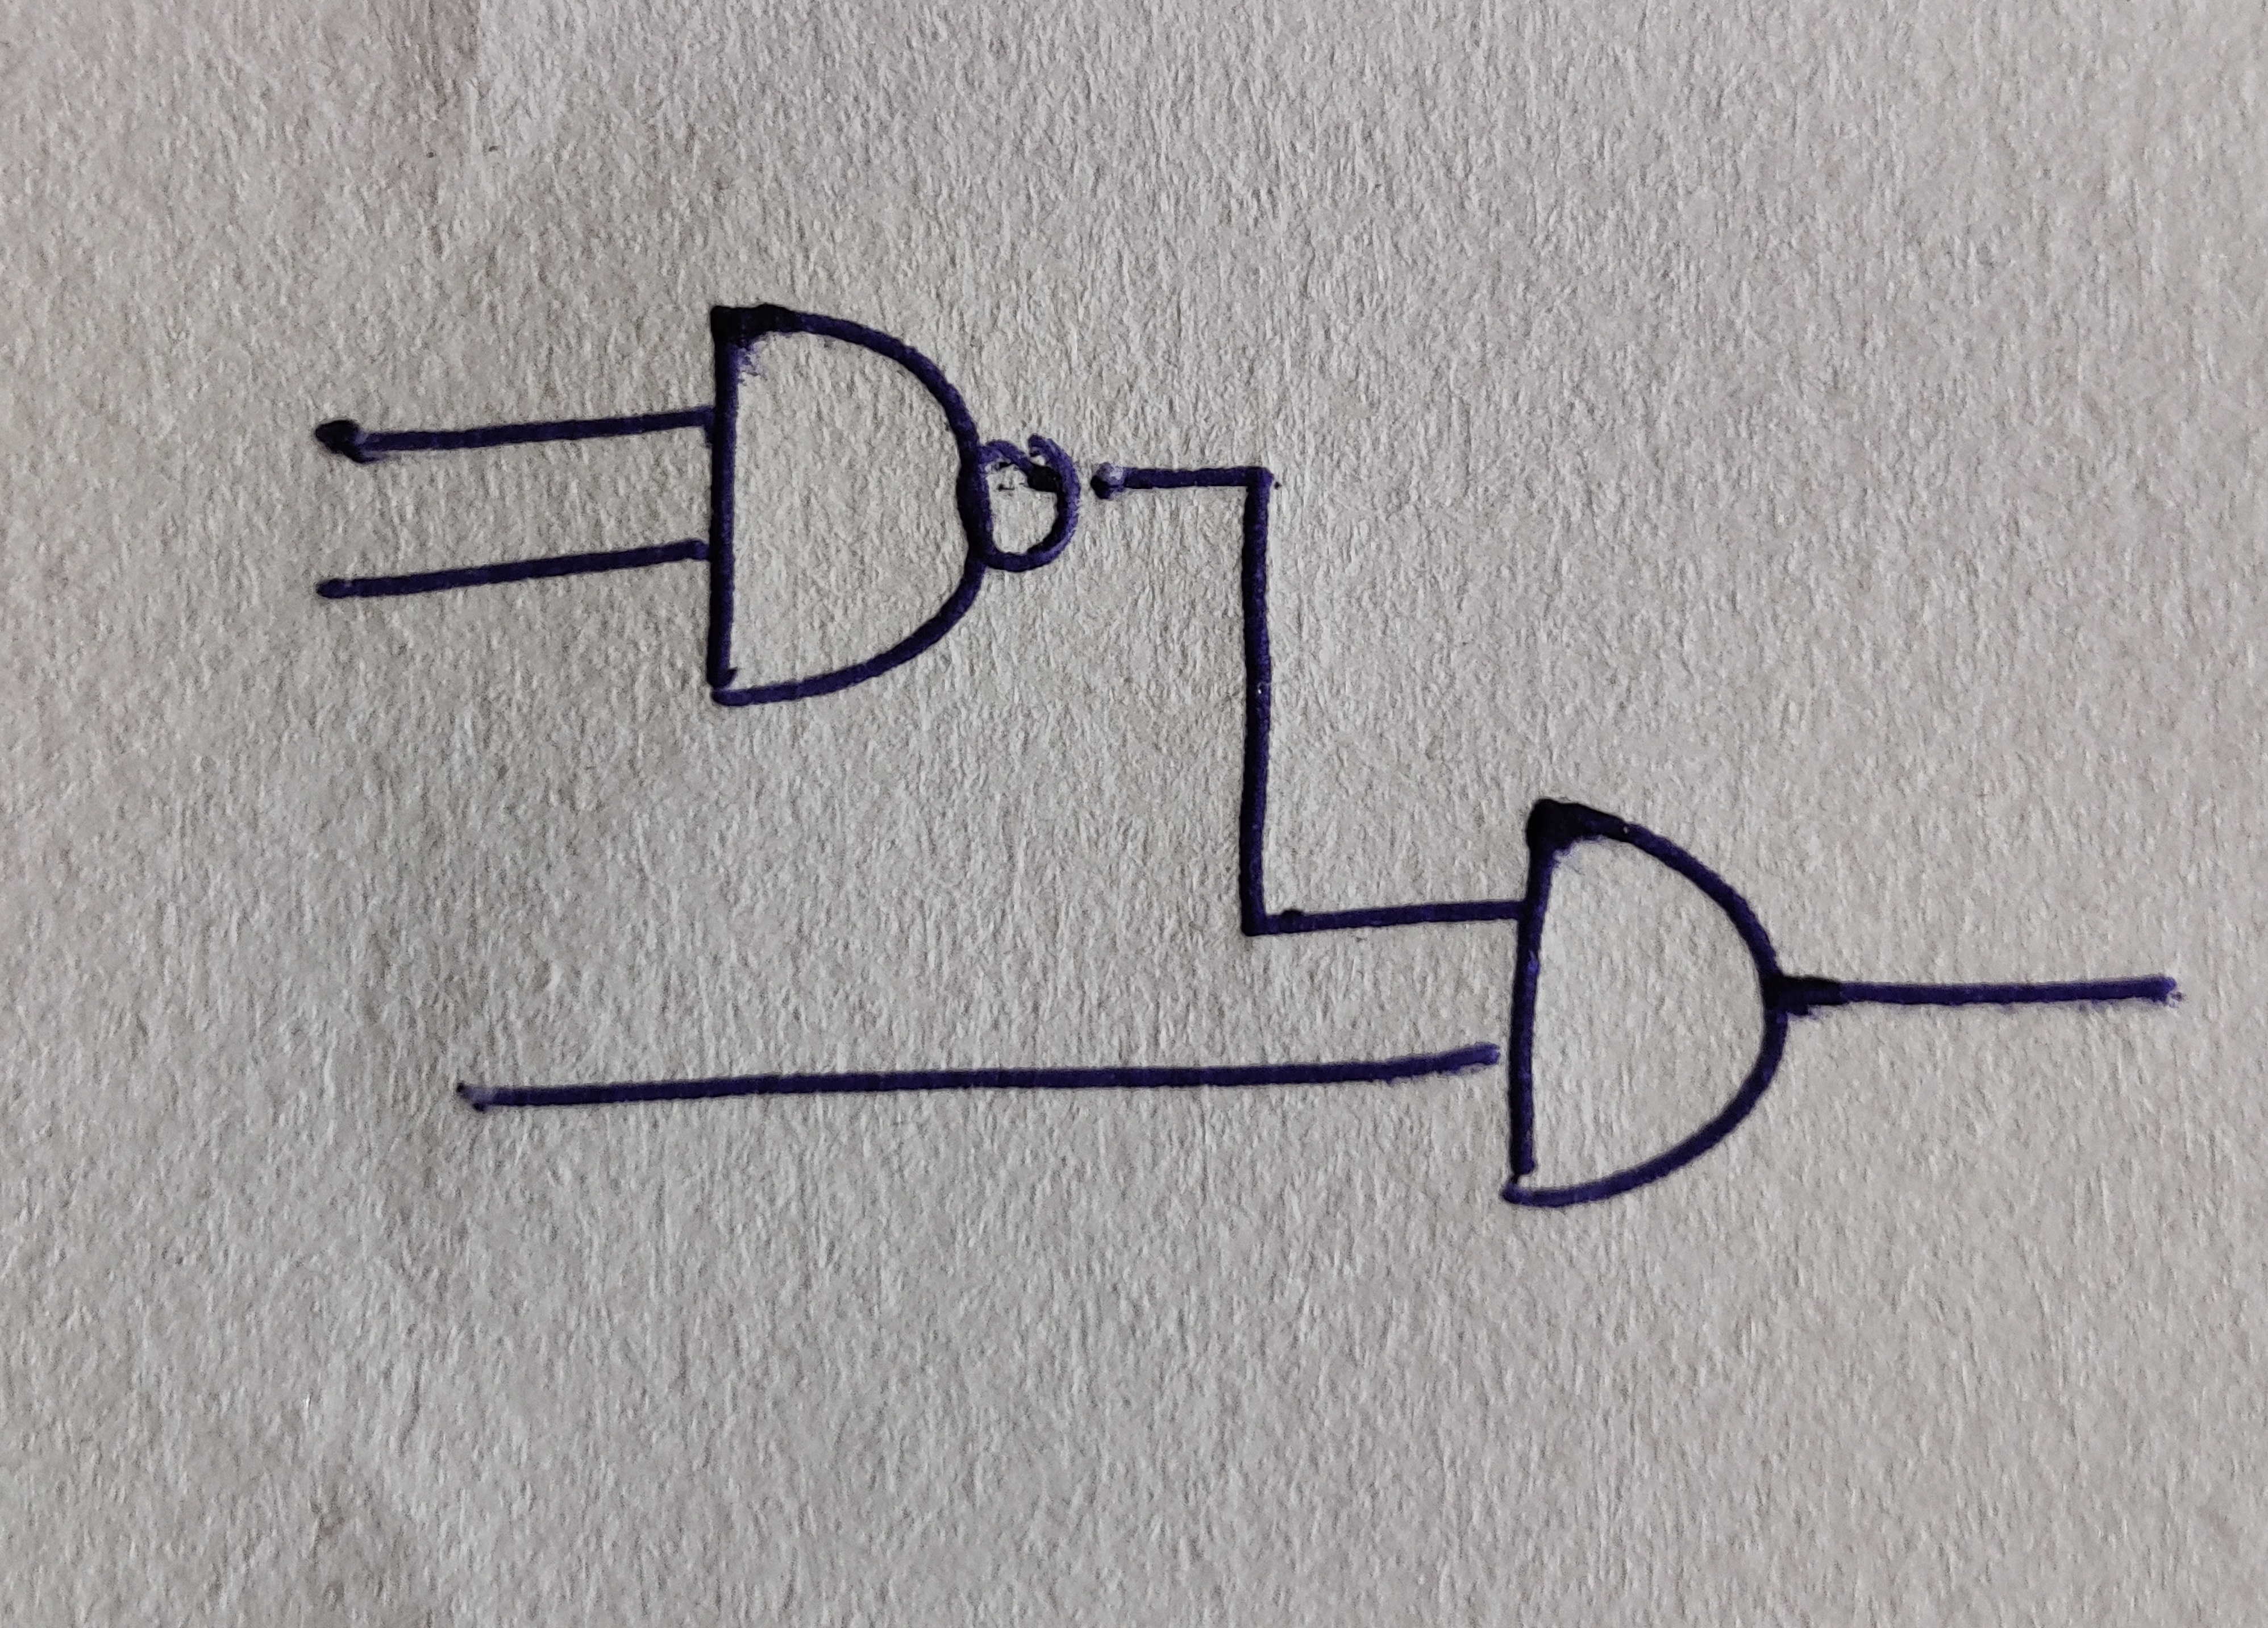and: (708, 298, 991, 705), (1509, 798, 1786, 1210)
not: (965, 439, 1083, 571)
